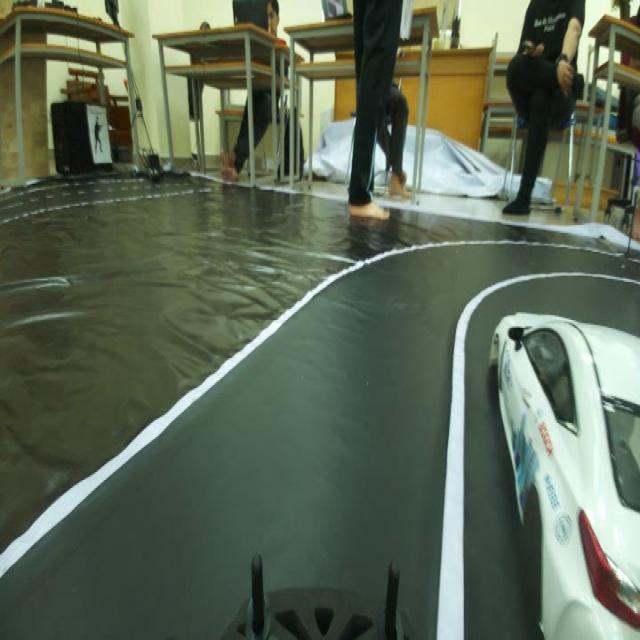car: (478, 270, 640, 636)
